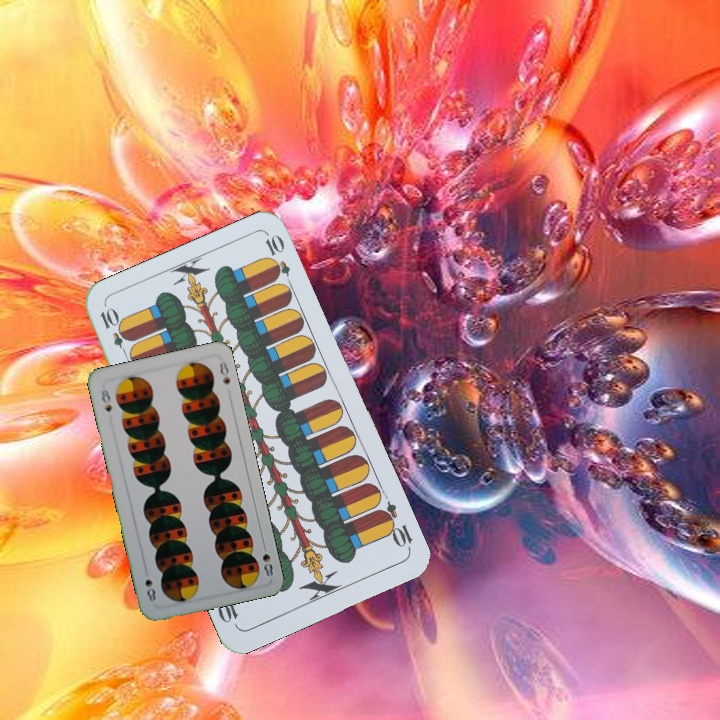E10: (374, 498, 416, 554), (96, 304, 133, 361)
S8: (258, 539, 276, 579), (97, 383, 114, 415)
